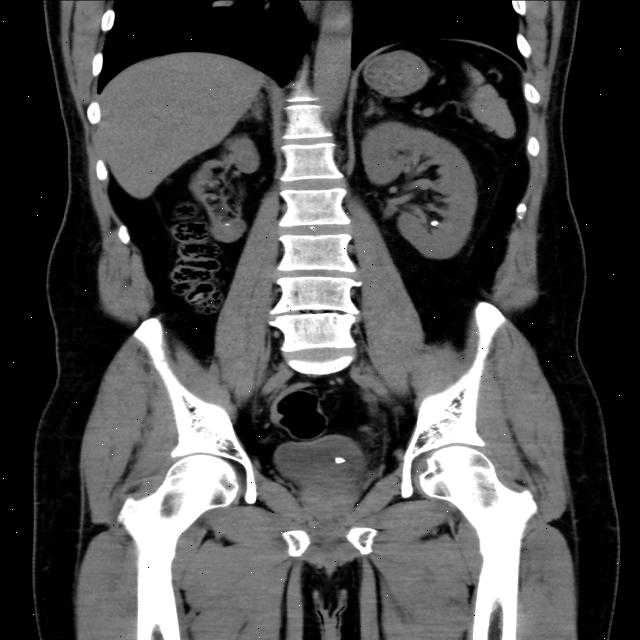kidneystone: (430, 220, 439, 226)
